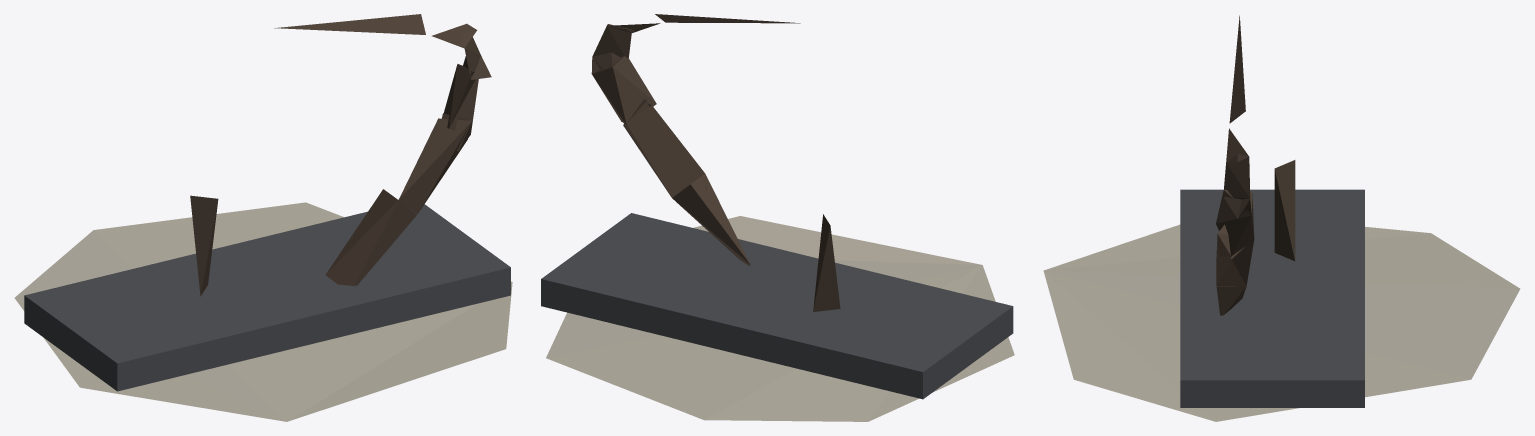
File: slavernijmonument.lod2.glb
3 views of the same model, side by side, from view 1: azimuth 30°, elevation 25°; view 2: azimuth 150°, elevation 25°; view 3: azimuth 270°, elevation 25° (orthographic). The views are drawn at different scales.
Parts seen in each view (by area): view 1: lod2; view 2: lod2; view 3: lod2.
Boxes of the visible parts, x1,y1,x2,y2 form: lod2: (14,14,512,421); lod2: (541,14,1014,421); lod2: (1043,15,1520,421).
Size of the model in its own units: 12.09 by 8.02 by 11.63.
